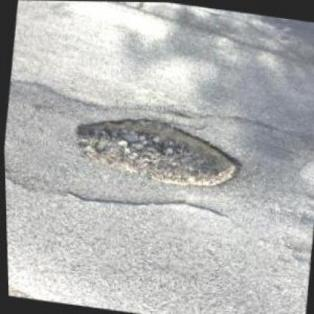Hueco: (68, 106, 249, 194)
